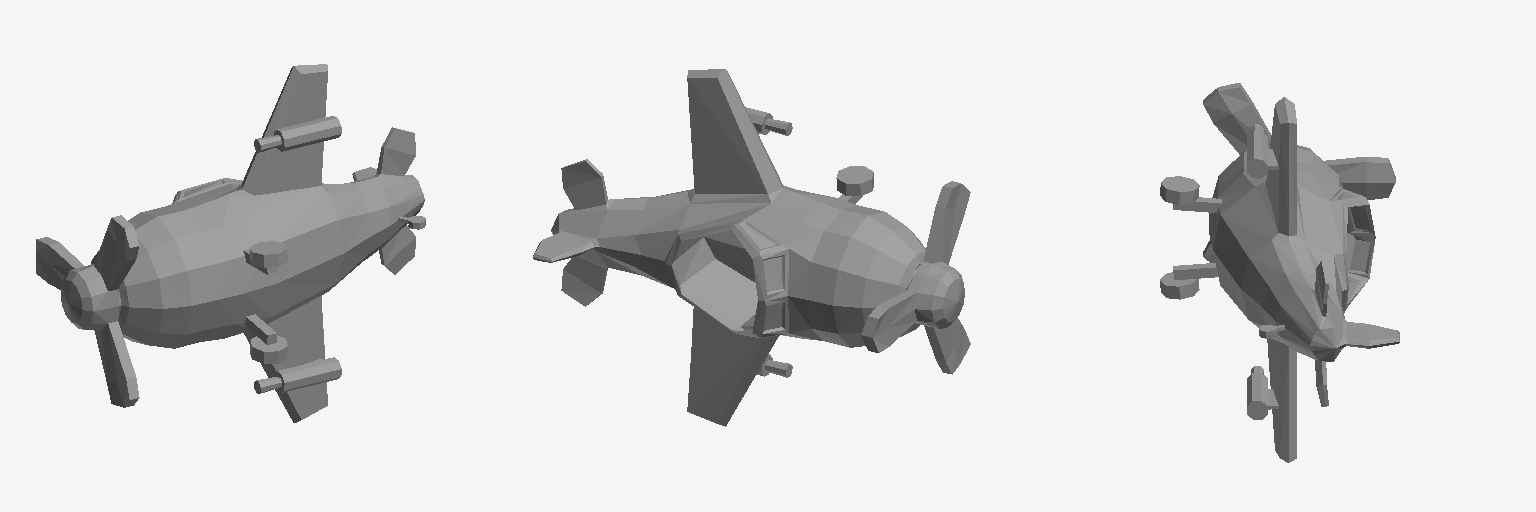
The picture shows the model from 3 angles: view 1: azimuth 30°, elevation 25°; view 2: azimuth 150°, elevation 25°; view 3: azimuth 270°, elevation 25°; orthographic projection.
Parts seen in each view (by area): view 1: PlaneBase_Cylinder, Blade_Cylinder.001; view 2: PlaneBase_Cylinder, Blade_Cylinder.001; view 3: PlaneBase_Cylinder, Blade_Cylinder.001.
Part boxes in pixels (x1,y1,x2,y2): PlaneBase_Cylinder: (91, 64, 425, 422); Blade_Cylinder.001: (36, 215, 139, 407); PlaneBase_Cylinder: (533, 69, 925, 426); Blade_Cylinder.001: (861, 181, 970, 374); PlaneBase_Cylinder: (1160, 97, 1399, 462); Blade_Cylinder.001: (1203, 83, 1395, 262).
Bounding box in the file's own units: 2.64 × 2.38 × 1.45.